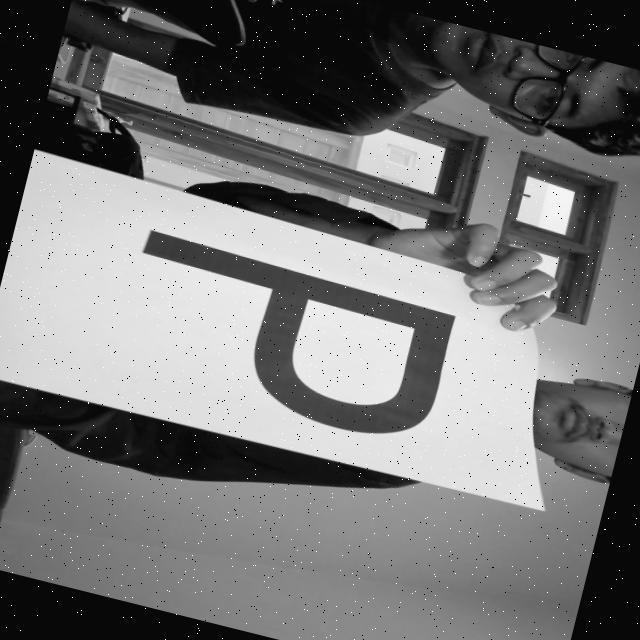p: (64, 205, 470, 450)
